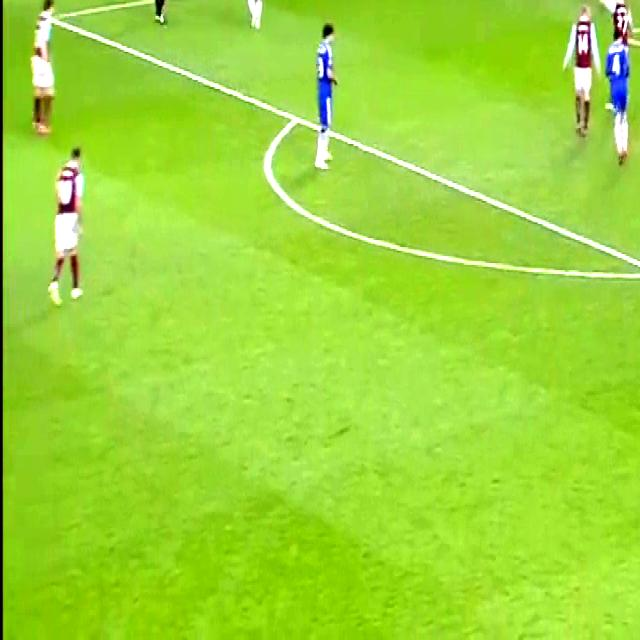referee: (143, 0, 176, 36)
soccer-player: (45, 134, 94, 317), (304, 10, 341, 181), (560, 3, 602, 150), (23, 0, 61, 140), (600, 20, 634, 172), (609, 0, 636, 80), (235, 0, 272, 37), (595, 0, 623, 12)
